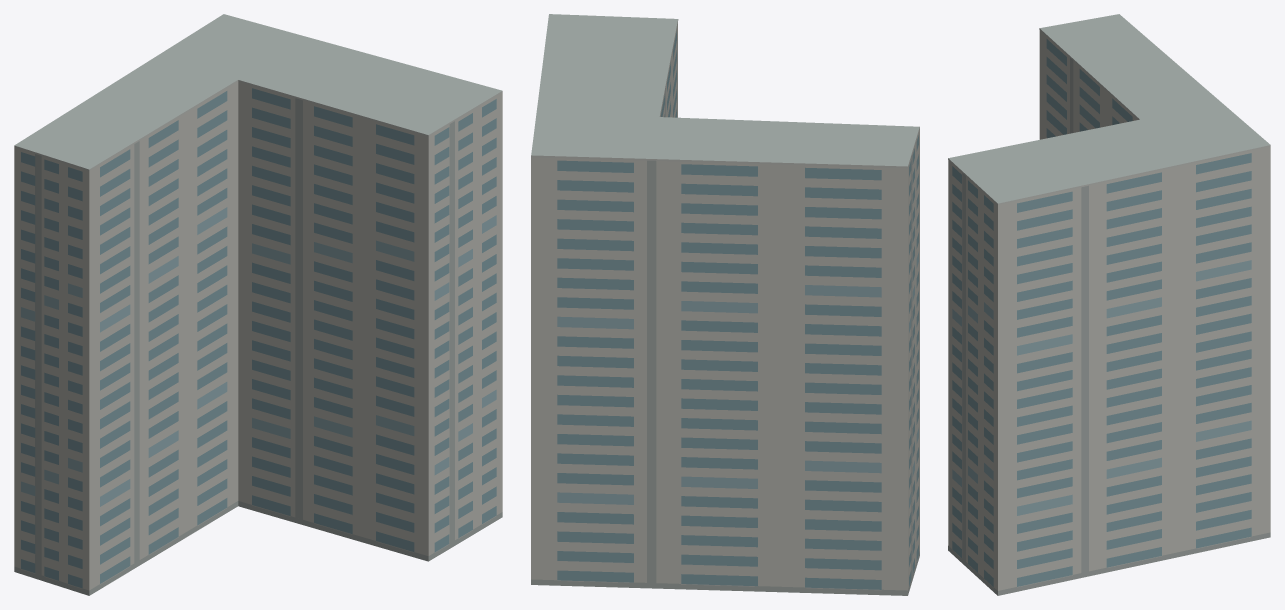
File: residential-e0bd3f0c-b08d-4061-b995-397f8bc3f795.glb
3 views of the same model, side by side, from view 1: azimuth 30°, elevation 25°; view 2: azimuth 150°, elevation 25°; view 3: azimuth 270°, elevation 25° (orthographic). The views are drawn at different scales.
Parts seen in each view (by area): view 1: residential-e0bd3f0c-b08d-4061-b995-397f8bc3f795.tmp; view 2: residential-e0bd3f0c-b08d-4061-b995-397f8bc3f795.tmp; view 3: residential-e0bd3f0c-b08d-4061-b995-397f8bc3f795.tmp.
Part boxes in pixels (left/top/right/bottom): residential-e0bd3f0c-b08d-4061-b995-397f8bc3f795.tmp: left=14, top=14, right=502, bottom=595; residential-e0bd3f0c-b08d-4061-b995-397f8bc3f795.tmp: left=531, top=14, right=919, bottom=595; residential-e0bd3f0c-b08d-4061-b995-397f8bc3f795.tmp: left=948, top=14, right=1270, bottom=595.
Bounding box in the file's own units: 63.25 × 61 × 45.47.
